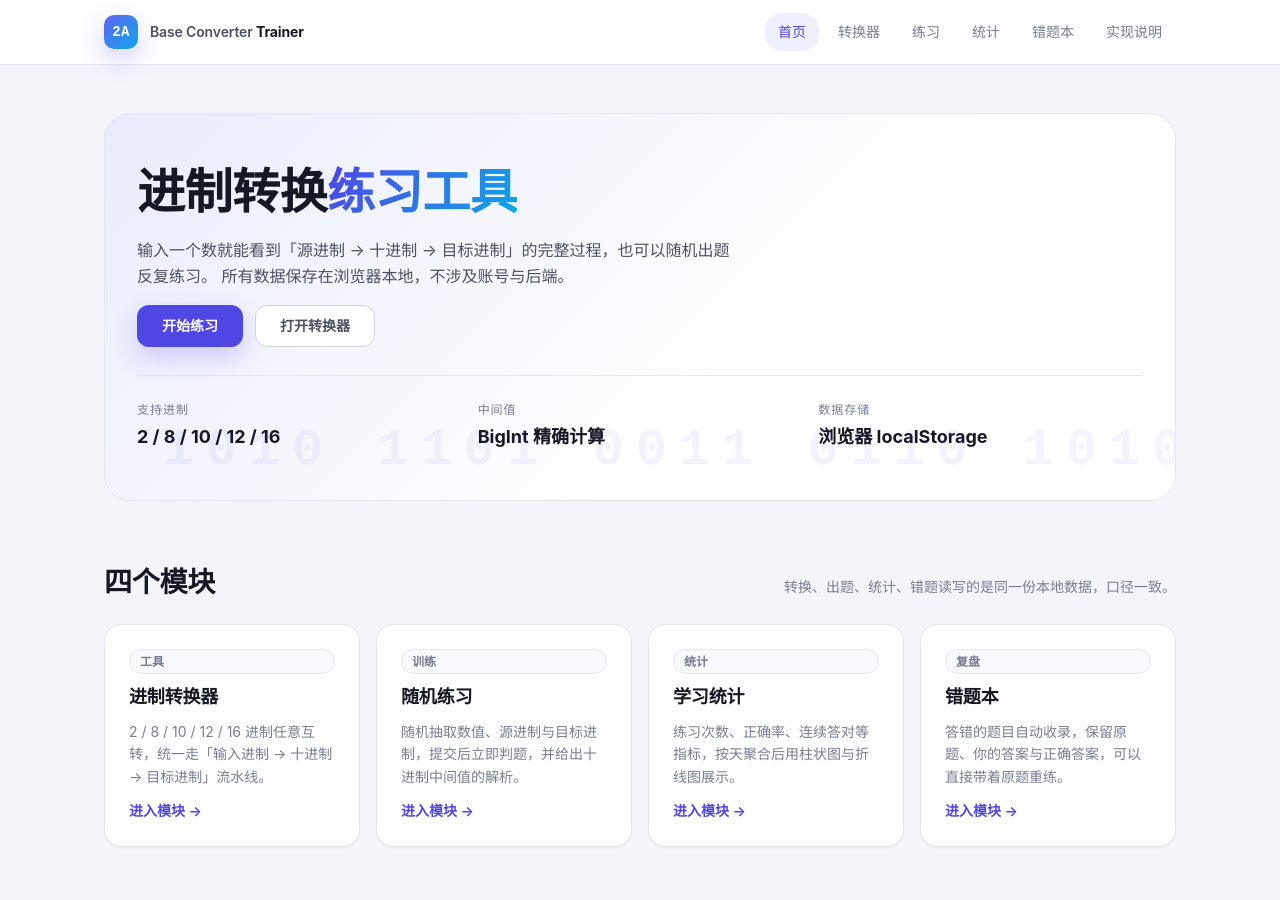
实现说明 · 入口 › 从导航栏可以进入这一页
This screenshot has width=1280, height=900.
What coordinates should you click on to do the following:
click the link "实现说明"
I would click on:
 (1134, 31)
Its box is [1106,23,1162,40].
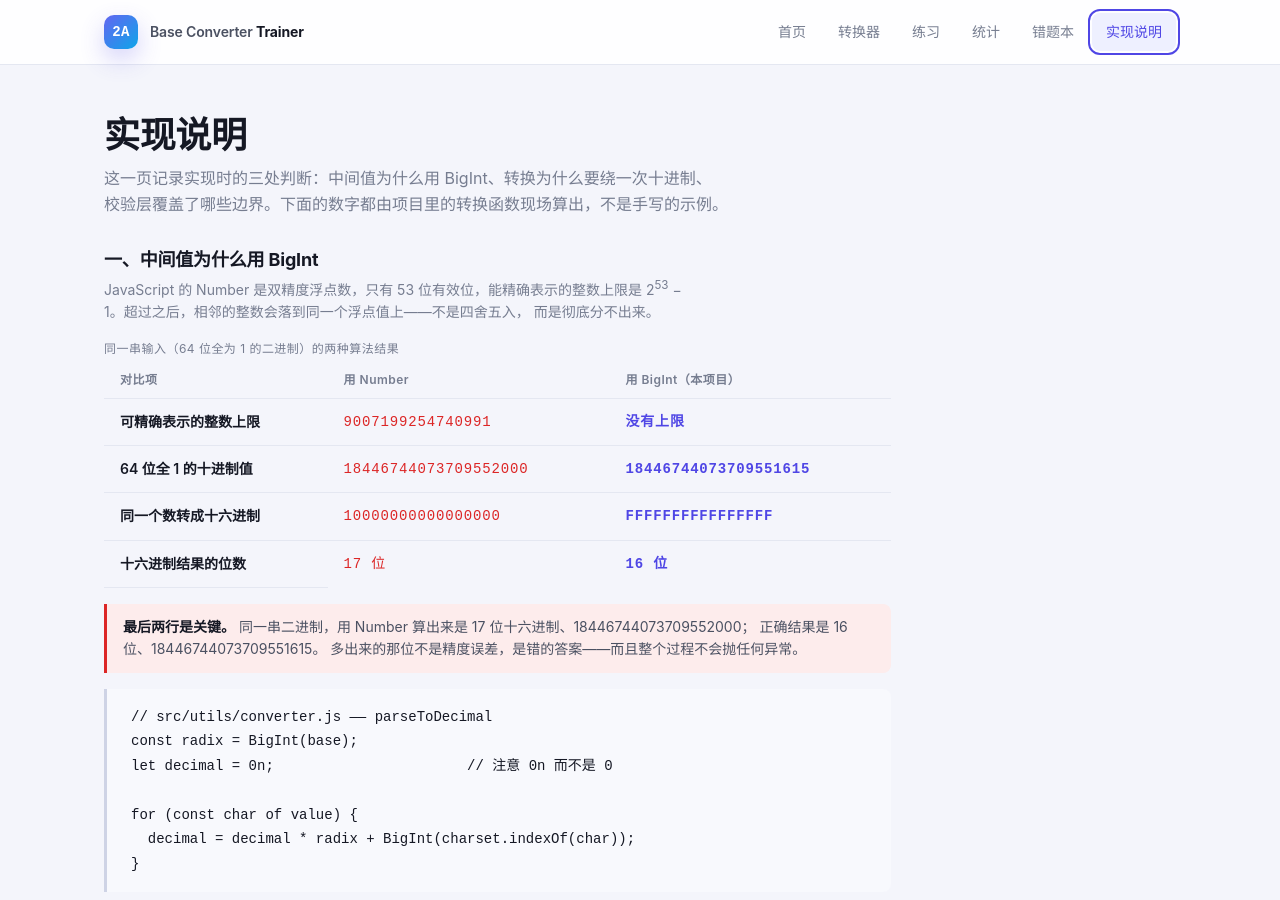
expect the heading "实现说明" is shown: met, box [104,113,247,157]
